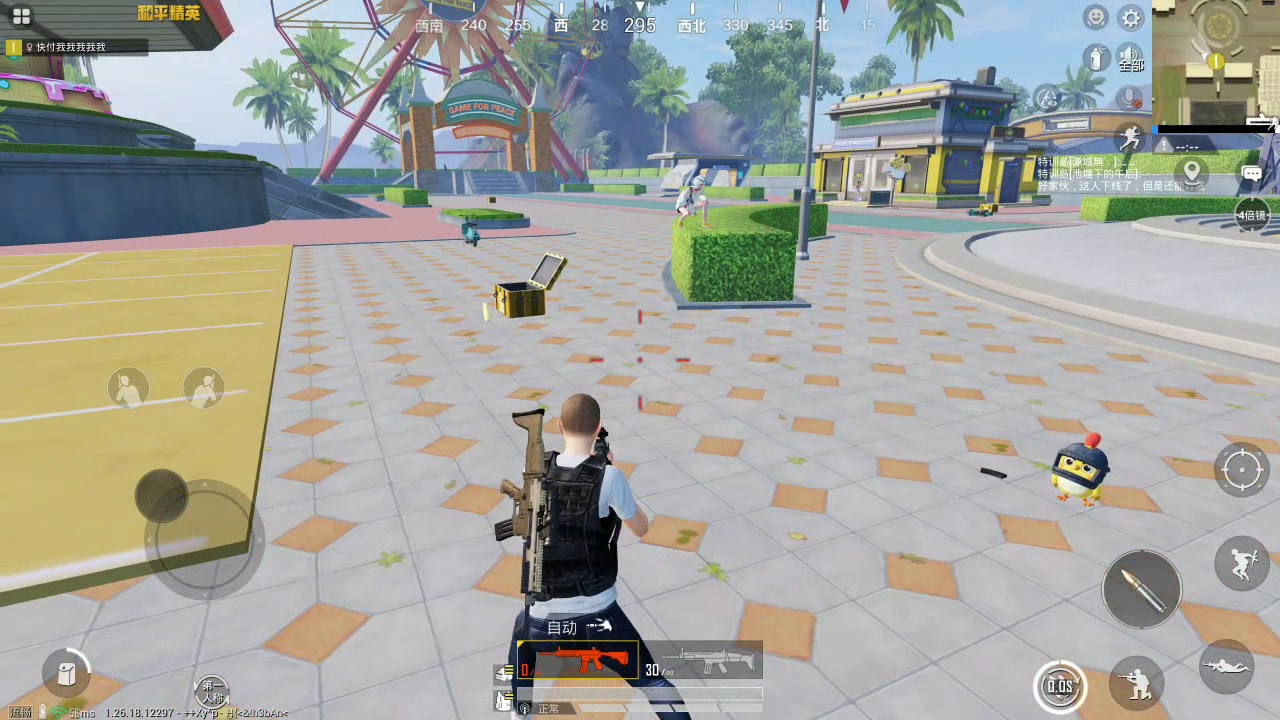enemy: (678, 174, 713, 229)
